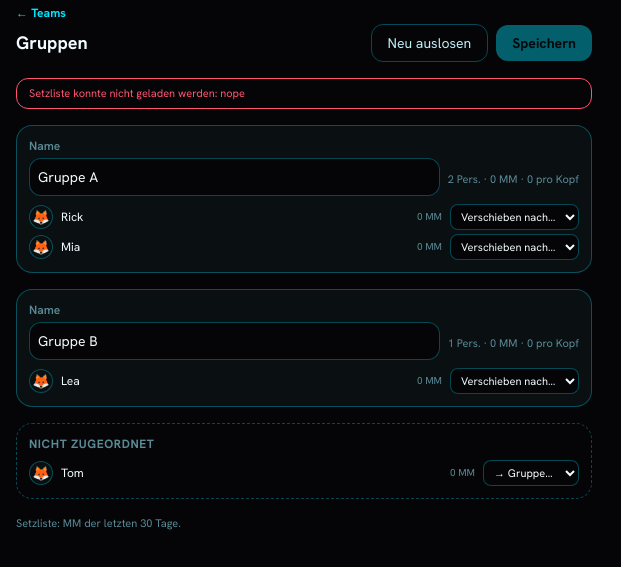
GroupEditor › still lets people be placed when the seeding list fails
Expected: the text "Setzliste konnte nicht geladen werden: nope" is shown, 16,78 -> 592,108
Expected: the element with test id "editor-group-1" shows "Rick", 61,208 -> 84,224
Select "→ Gruppe B" in the dropdown named "Tom verschieben": (531, 472) 483,460 -> 579,486
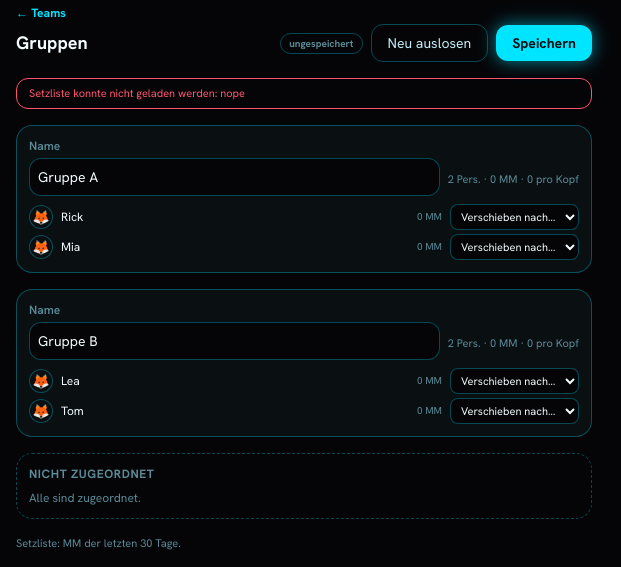
Expected: the text "ungespeichert" is shown, 280,32 -> 362,54
